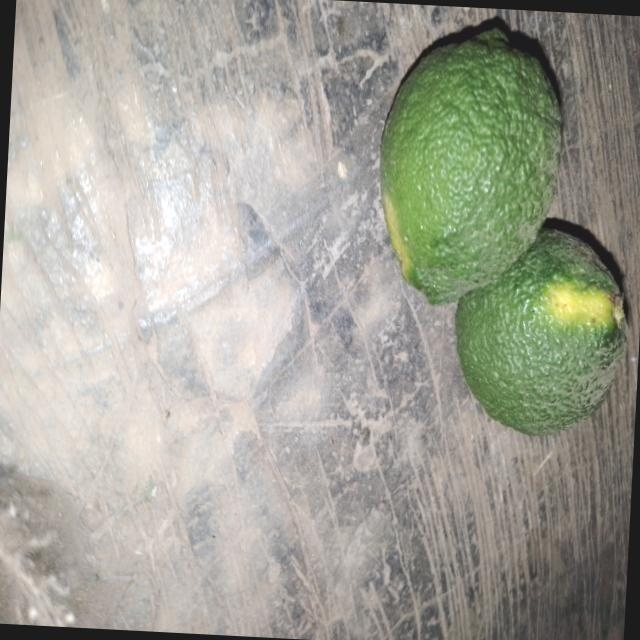agrume: (358, 6, 579, 358), (440, 211, 640, 457)
